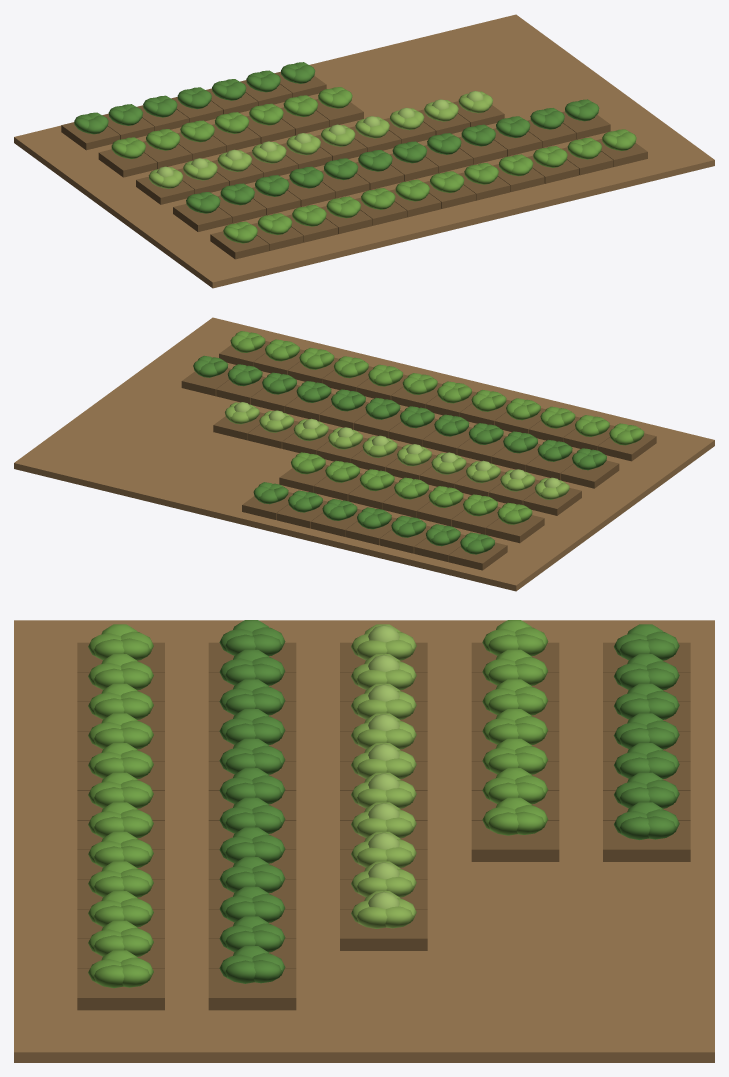
File: LV_VUON_RAU_01.glb
3 renders of one model, top to bottom at view 1: azimuth 30°, elevation 25°; view 2: azimuth 150°, elevation 25°; view 3: azimuth 270°, elevation 25°, orthographic. The views are drawn at different scales.
Parts seen in each view (by area): view 1: LV_VUON_RAU_01-surface-9a784f, LV_VUON_RAU_01-surface-7c603d, LV_VUON_RAU_01-surface-6b9c41, LV_VUON_RAU_01-surface-53873a, LV_VUON_RAU_01-surface-88ad51, LV_VUON_RAU_01-surface-9ab963; view 2: LV_VUON_RAU_01-surface-9a784f, LV_VUON_RAU_01-surface-7c603d, LV_VUON_RAU_01-surface-6b9c41, LV_VUON_RAU_01-surface-53873a, LV_VUON_RAU_01-surface-88ad51, LV_VUON_RAU_01-surface-9ab963; view 3: LV_VUON_RAU_01-surface-9a784f, LV_VUON_RAU_01-surface-7c603d, LV_VUON_RAU_01-surface-6b9c41, LV_VUON_RAU_01-surface-53873a, LV_VUON_RAU_01-surface-88ad51, LV_VUON_RAU_01-surface-9ab963.
Boxes of the visible parts, bbox=[...] form: LV_VUON_RAU_01-surface-9a784f: bbox=[14, 14, 714, 288]; LV_VUON_RAU_01-surface-7c603d: bbox=[61, 71, 647, 259]; LV_VUON_RAU_01-surface-6b9c41: bbox=[111, 87, 636, 243]; LV_VUON_RAU_01-surface-53873a: bbox=[74, 62, 599, 213]; LV_VUON_RAU_01-surface-88ad51: bbox=[148, 91, 492, 188]; LV_VUON_RAU_01-surface-9ab963: bbox=[156, 91, 483, 177]; LV_VUON_RAU_01-surface-9a784f: bbox=[14, 317, 714, 591]; LV_VUON_RAU_01-surface-7c603d: bbox=[181, 341, 656, 570]; LV_VUON_RAU_01-surface-6b9c41: bbox=[230, 331, 644, 524]; LV_VUON_RAU_01-surface-53873a: bbox=[193, 355, 606, 554]; LV_VUON_RAU_01-surface-88ad51: bbox=[225, 402, 569, 499]; LV_VUON_RAU_01-surface-9ab963: bbox=[234, 402, 561, 487]; LV_VUON_RAU_01-surface-9a784f: bbox=[14, 620, 714, 1062]; LV_VUON_RAU_01-surface-7c603d: bbox=[77, 642, 690, 1010]; LV_VUON_RAU_01-surface-6b9c41: bbox=[88, 620, 548, 988]; LV_VUON_RAU_01-surface-53873a: bbox=[219, 620, 679, 983]; LV_VUON_RAU_01-surface-88ad51: bbox=[351, 624, 416, 928]; LV_VUON_RAU_01-surface-9ab963: bbox=[368, 625, 399, 908].
Bounding box in the file's own units: 10.5 × 0.61 × 7.2.
